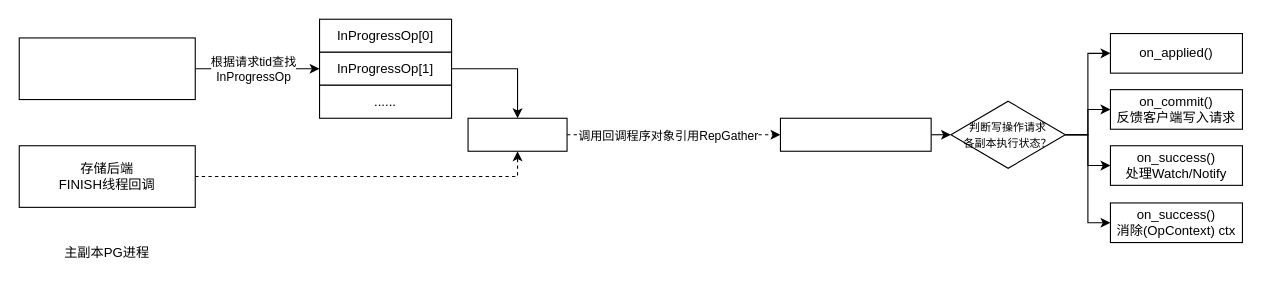
This 1262x284 diagram has some shape labels left out. The shapes that lost their labels are listed below. From the top down, each one's box as (x1, y1, x2, y2) in pixels, then its label:
(18, 37, 195, 100): 接收从副本OSD MSG_OSD_REPOPREPLY 类型的消息
(467, 117, 567, 151): InProgressOp
(779, 117, 931, 151): eval_repop(RepGather)
